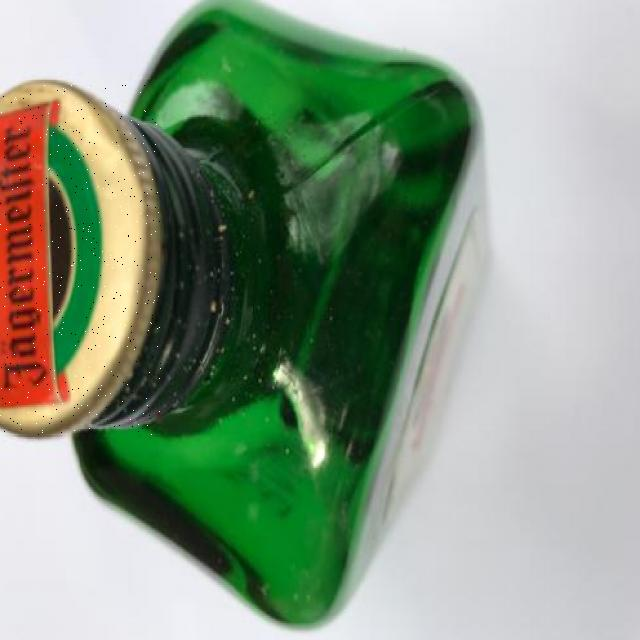glass: (76, 0, 486, 624)
metal: (0, 81, 161, 435)
